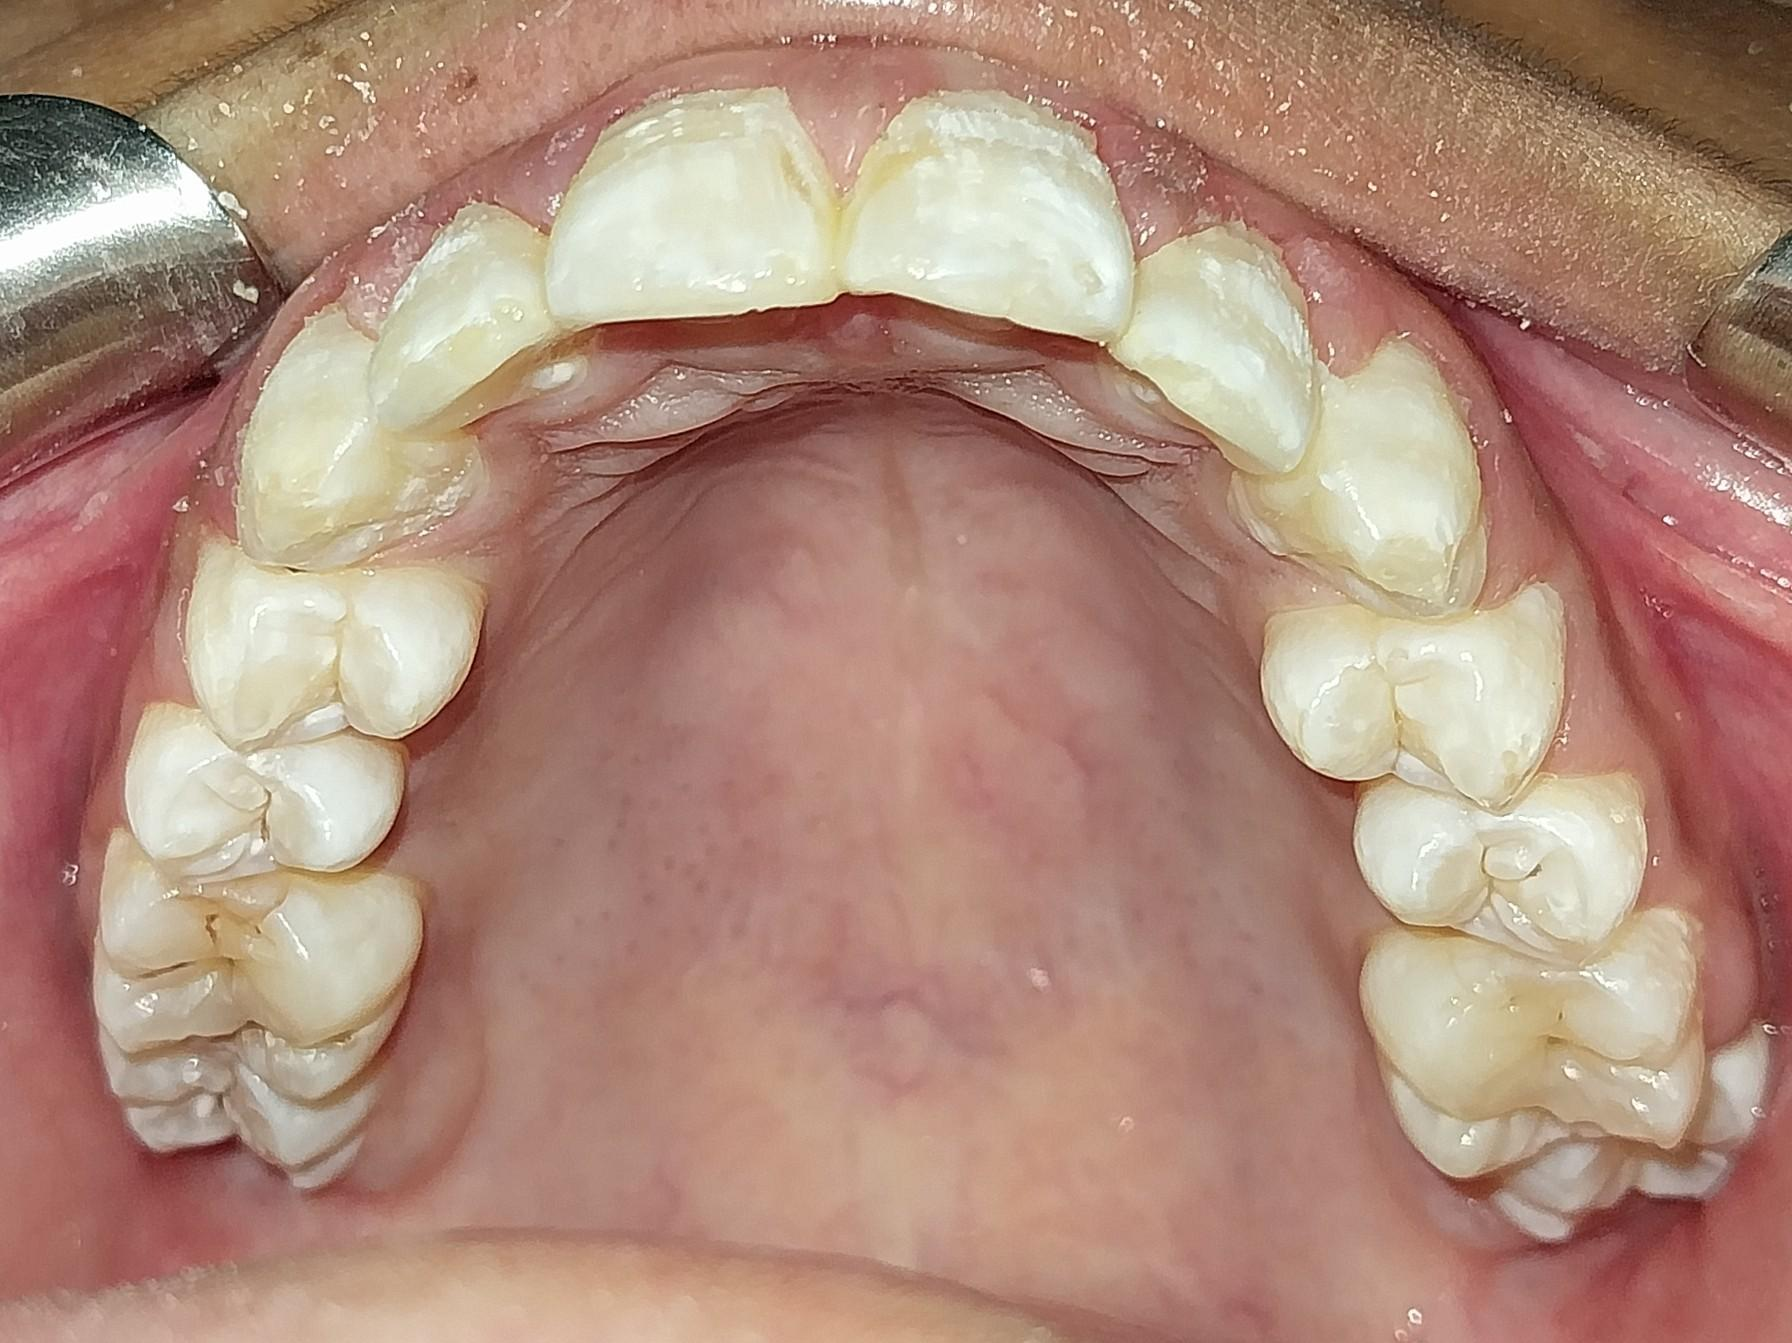D: (89, 851, 415, 1097)
